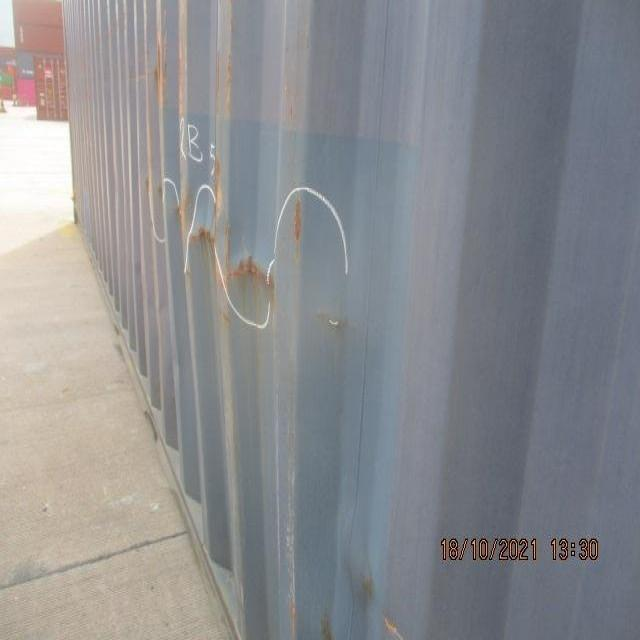Dent: (137, 128, 382, 420)
Minor-Dent: (332, 517, 372, 611)
